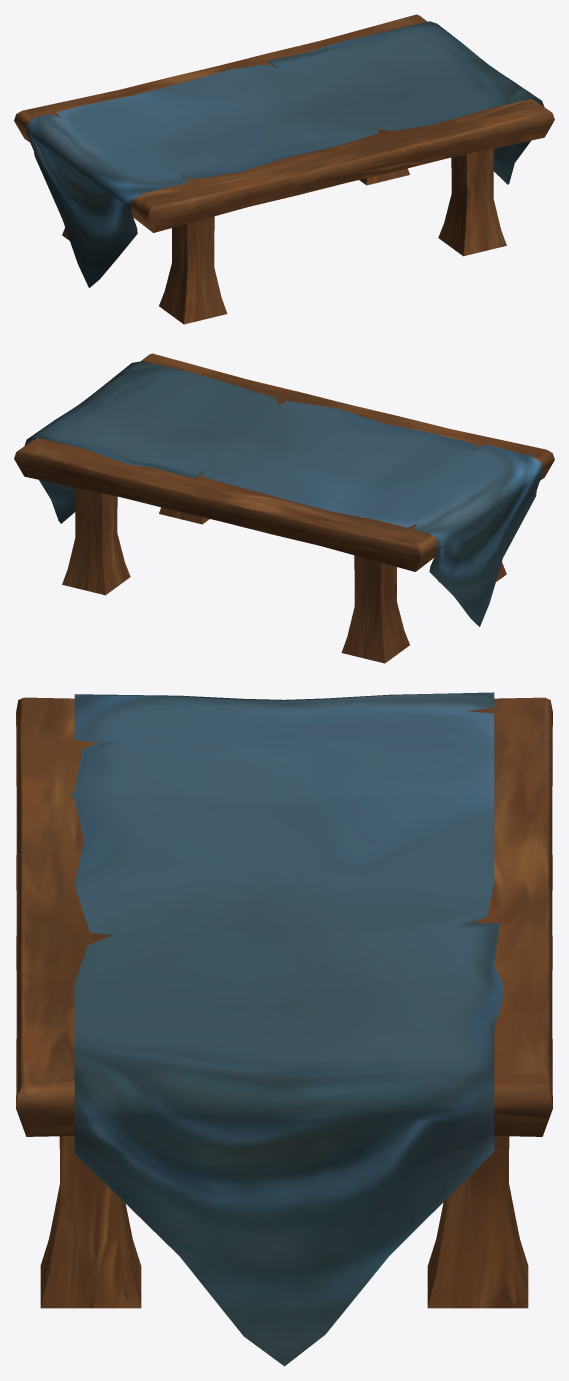
File: Table_Square.fbx
3 renders of one model, top to bottom at view 1: azimuth 30°, elevation 25°; view 2: azimuth 150°, elevation 25°; view 3: azimuth 270°, elevation 25°, orthographic. The views are drawn at different scales.
Visible parts, largest first — view 1: Table_Square; view 2: Table_Square; view 3: Table_Square.
Part boxes in pixels (box(x1,y1,x2,y2)): Table_Square: box(14, 14, 554, 324); Table_Square: box(14, 353, 554, 663); Table_Square: box(16, 692, 552, 1366).
Size of the model in its own units: 491 by 146 by 266.
